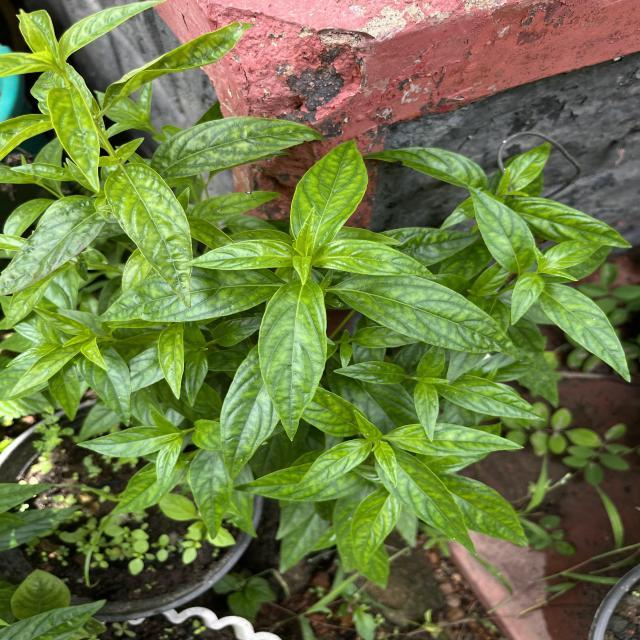Andrographis paniculata: (335, 270, 523, 364), (104, 162, 194, 311), (374, 444, 479, 558), (256, 278, 328, 442), (149, 115, 327, 180), (0, 198, 110, 297), (288, 137, 370, 254), (538, 283, 632, 383), (218, 346, 280, 481), (436, 472, 530, 547), (506, 197, 634, 249), (46, 81, 102, 195), (466, 186, 536, 276), (362, 145, 488, 191), (436, 374, 546, 422), (312, 238, 437, 280), (384, 422, 526, 457), (75, 344, 132, 428), (350, 486, 402, 574), (294, 438, 374, 491), (188, 450, 234, 540), (8, 341, 80, 398), (180, 238, 298, 271), (74, 425, 168, 458), (158, 322, 185, 400), (542, 240, 604, 272), (510, 272, 546, 326), (332, 360, 407, 384), (412, 381, 440, 443)
